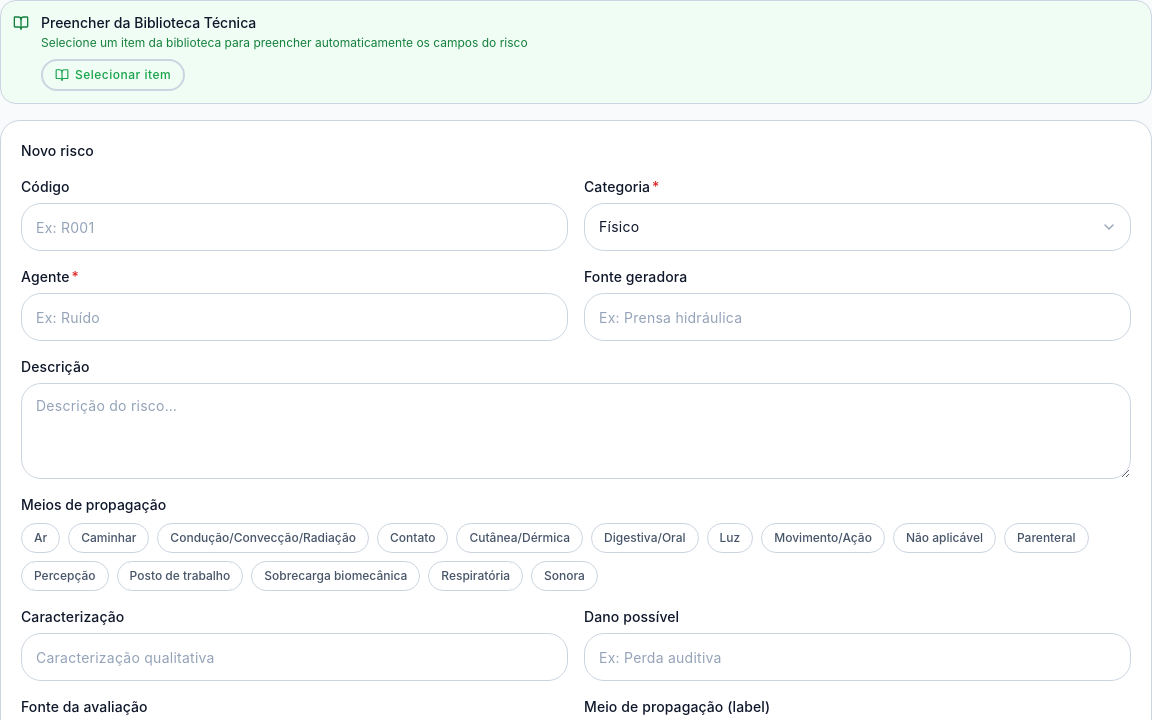
RiscoForm — integração com Biblioteca Técnica › abre modal do seletor ao clicar "Selecionar item"
Click the button "Selecionar item" at (113, 75), box [41, 59, 185, 91]
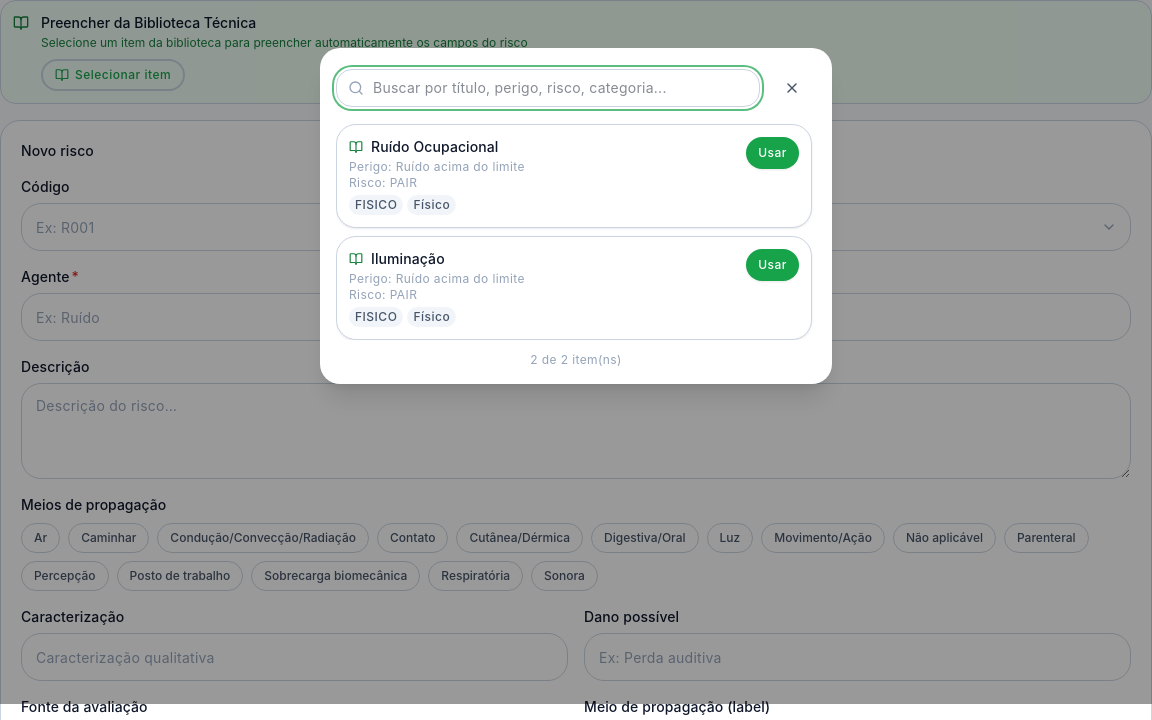
expect the text "Ruído Ocupacional" is shown: met, box [371, 137, 498, 157]
expect the text "Iluminação" is shown: met, box [371, 249, 445, 269]
